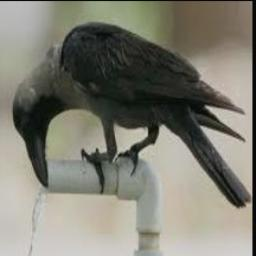Crow: (12, 21, 250, 208)
